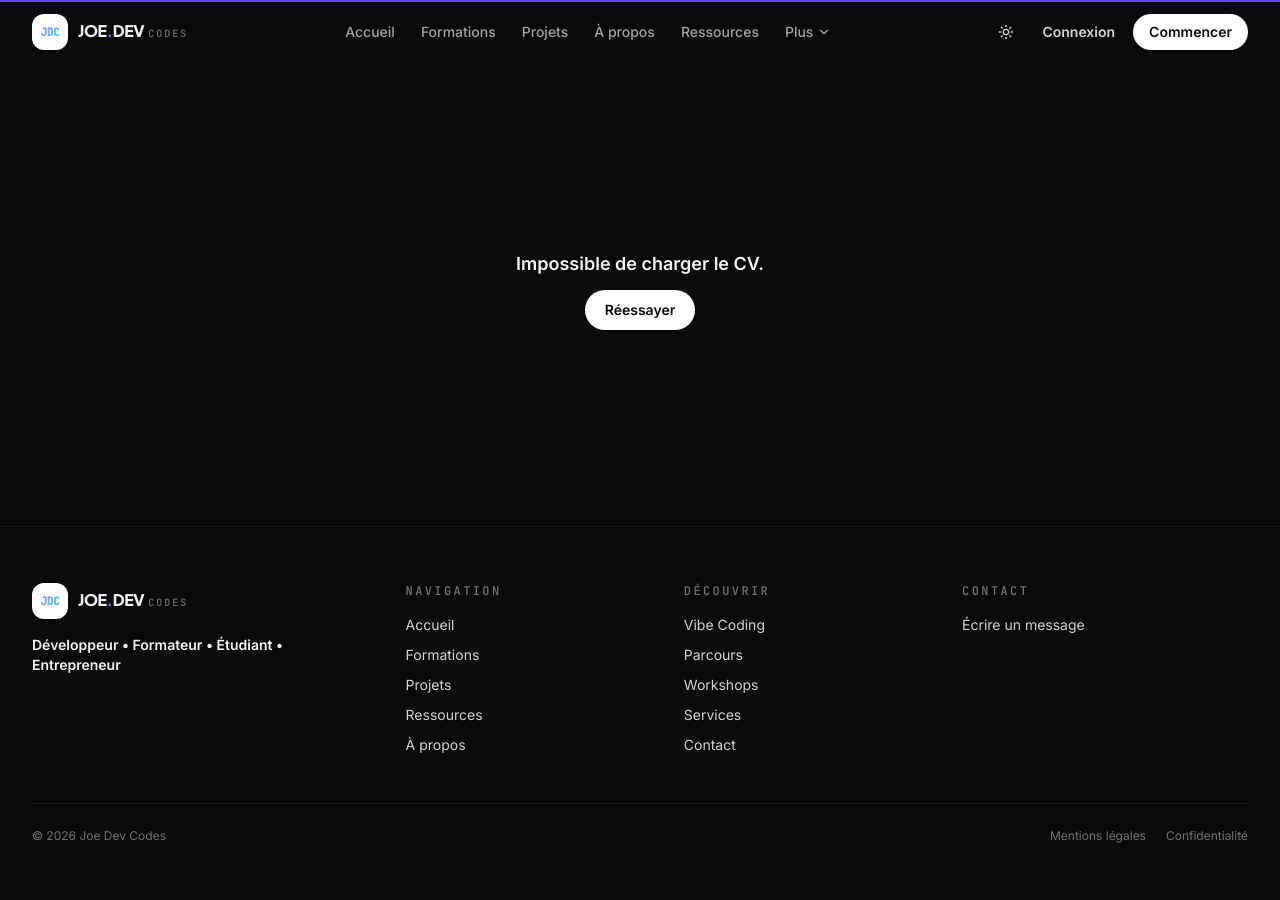
Page publique /cv › erreur réseau : message + Réessayer, jamais d’écran noir
This screenshot has width=1280, height=900.
Expected: the text "Impossible de charger le CV." is shown, [516,250,764,278]
Click the button "Réessayer": (640, 310) [585,290,695,330]
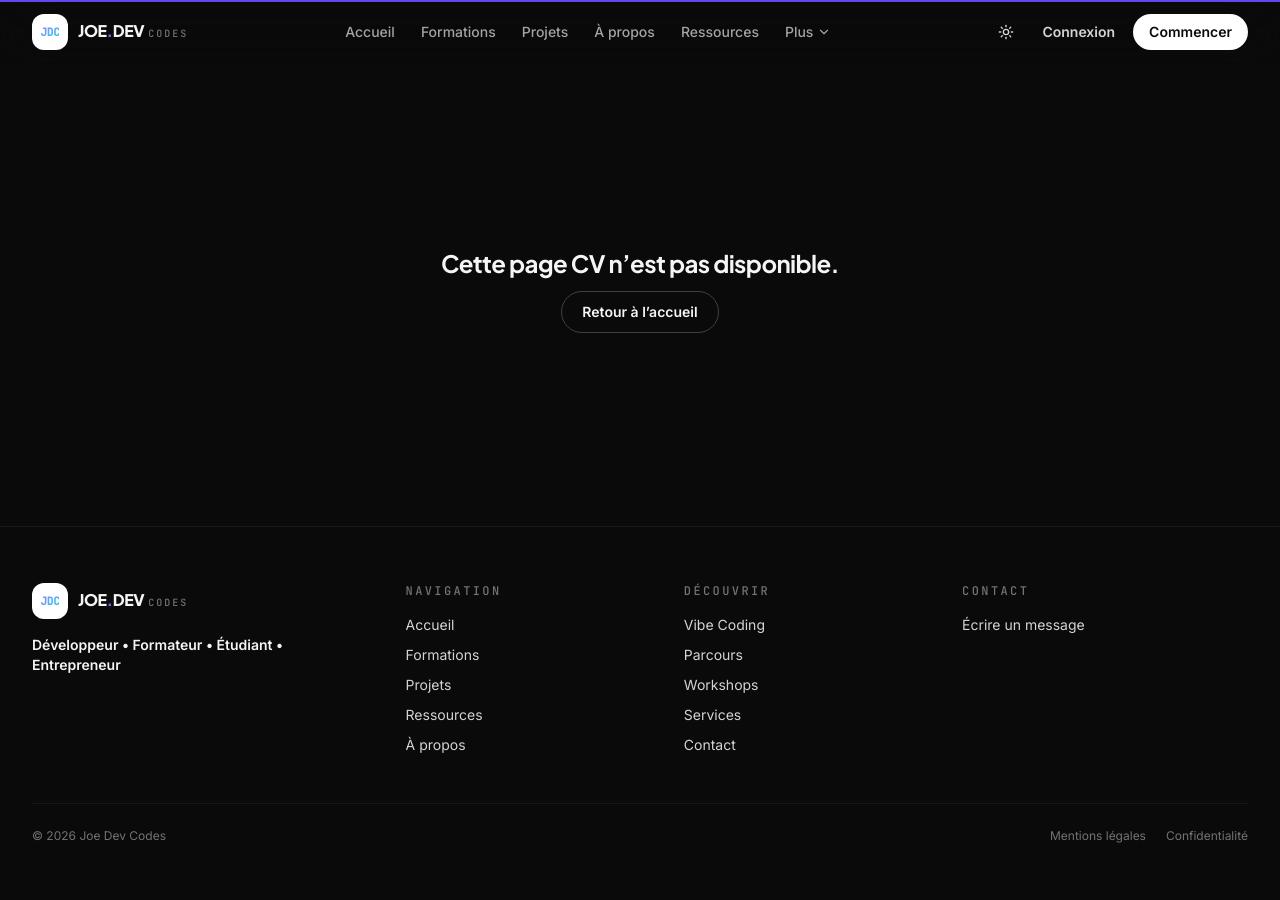
Now the heading "Cette page CV n’est pas disponible." is shown, box [441,247,839,279]
